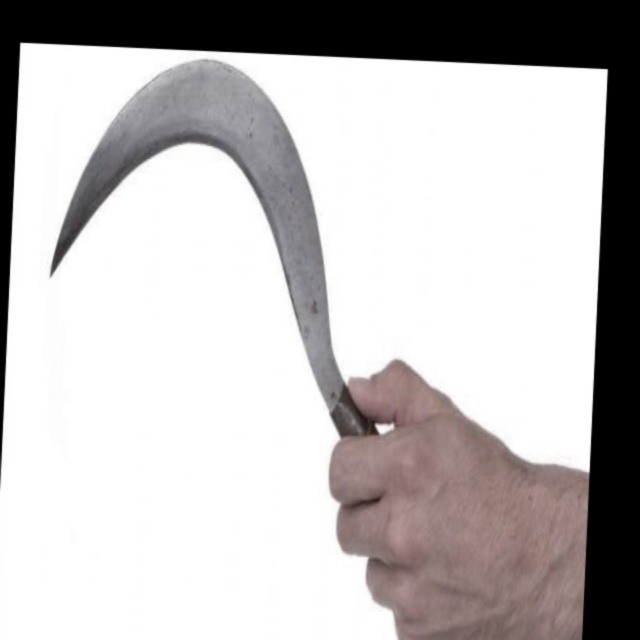Sharp-Object: (2, 46, 424, 463)
